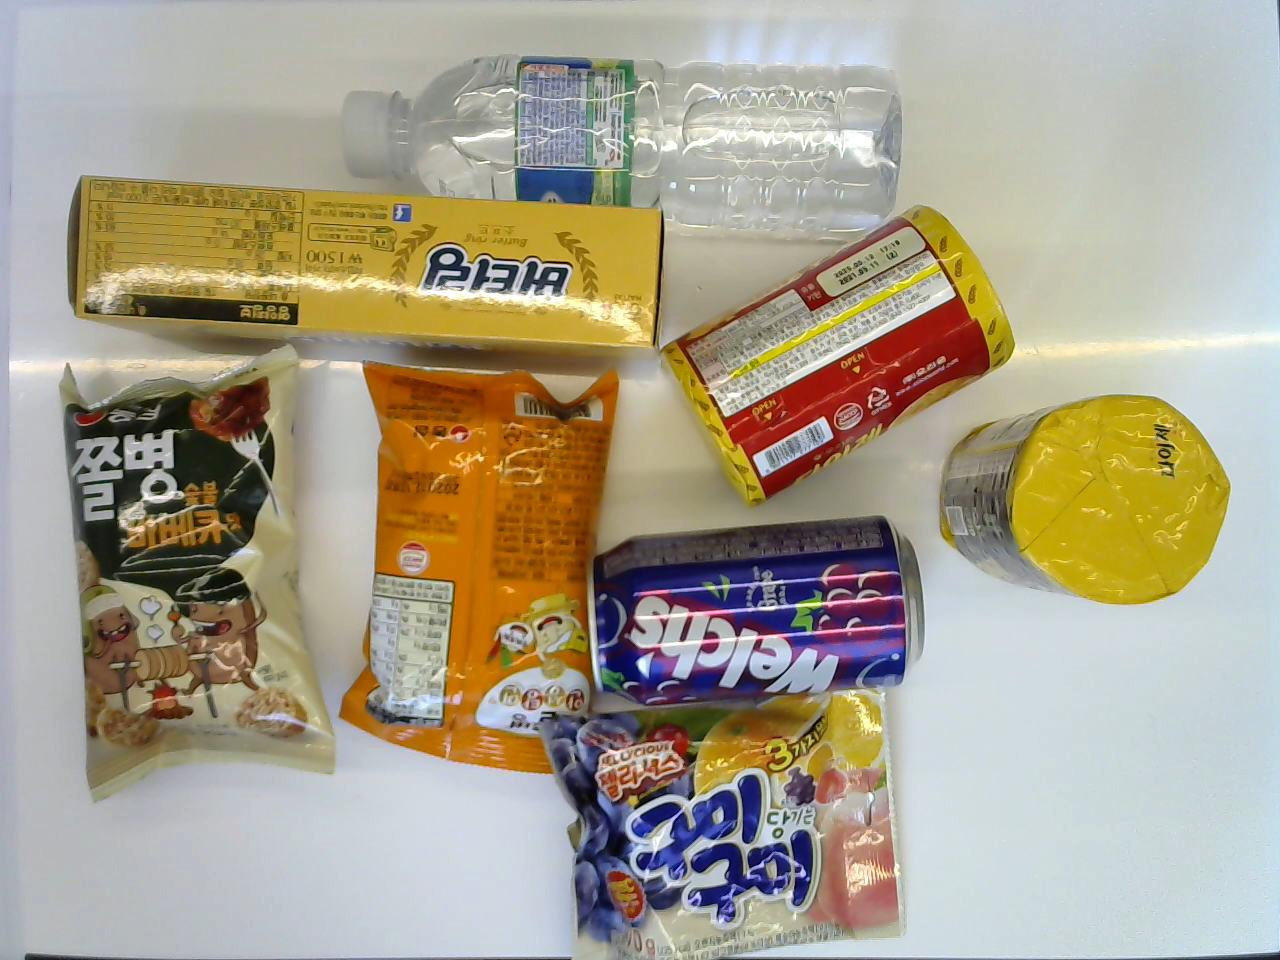buttering: (61, 168, 664, 375)
diget_choco: (932, 397, 1228, 612)
diget_ori: (658, 202, 1018, 506)
gumi_gumi: (536, 680, 907, 953)
jjolbyung_noodle: (332, 340, 620, 774)
jjolbyung_ori: (56, 342, 335, 809)
samdasu: (334, 46, 908, 248)
welchs: (589, 520, 928, 704)
